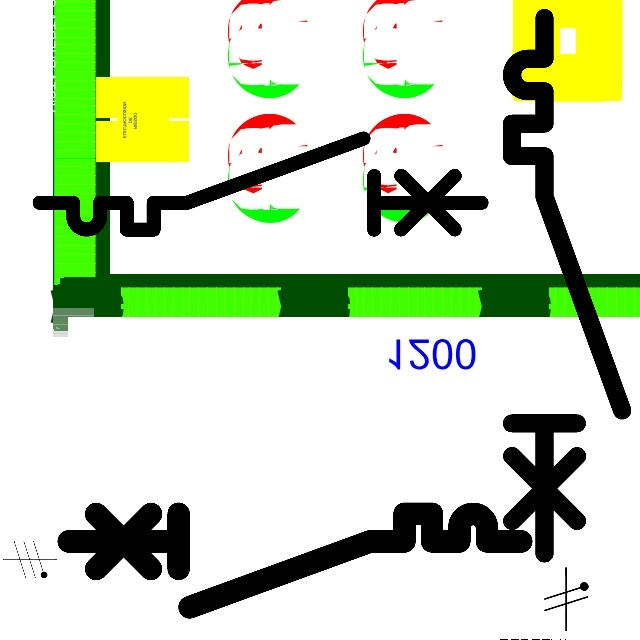interruptor_termomagnetico: (498, 4, 636, 567), (56, 502, 532, 618), (28, 127, 493, 241)
